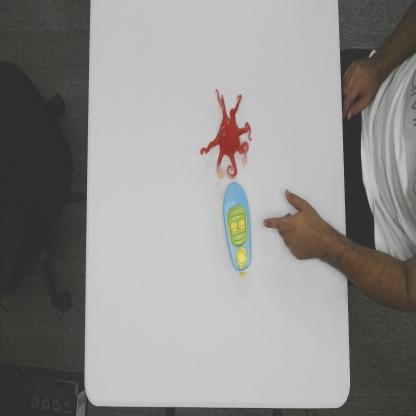Boat: (222, 180, 252, 278)
Hand: (262, 187, 336, 265)
Octopus: (200, 87, 253, 182)
